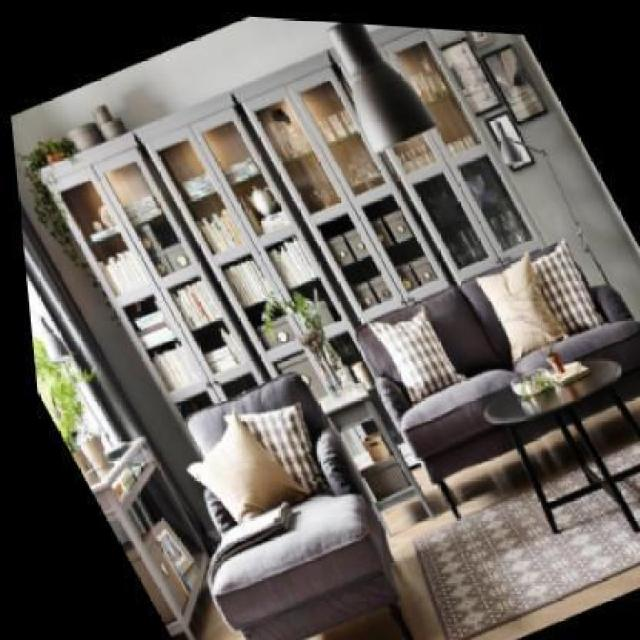tables: (482, 357, 638, 534)
